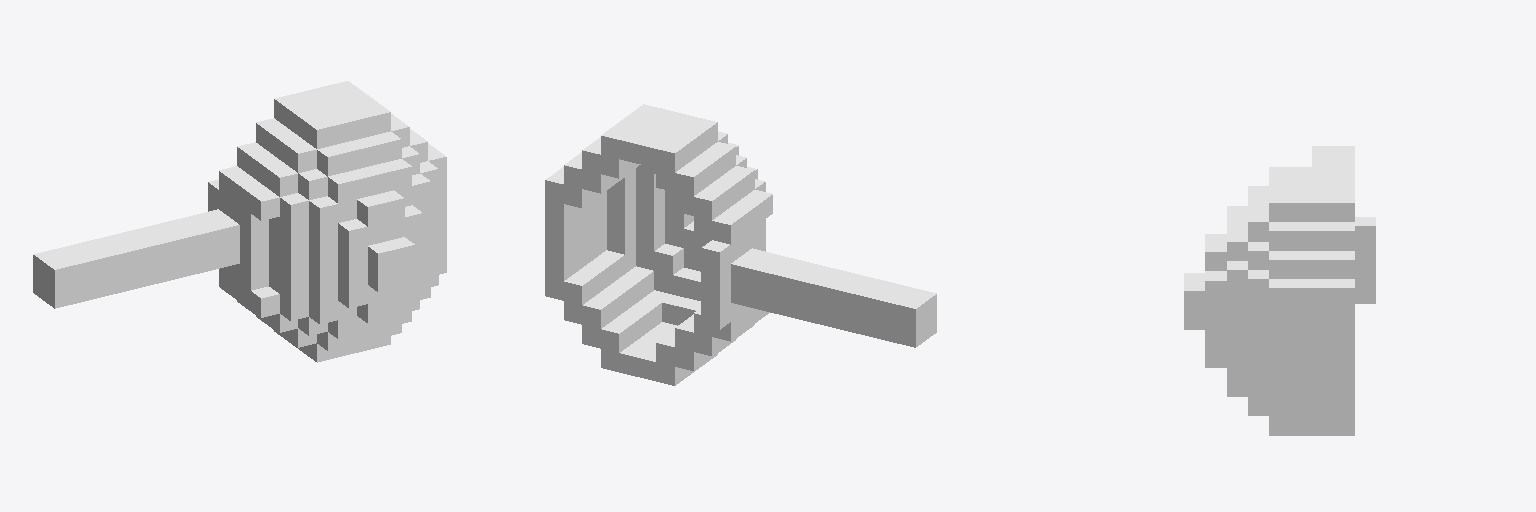
Rendered from Projectile_2.obj.
The picture shows the model from 3 angles: view 1: azimuth 30°, elevation 25°; view 2: azimuth 150°, elevation 25°; view 3: azimuth 270°, elevation 25°; orthographic projection.
Visible parts, largest first — view 1: object 1; view 2: object 1; view 3: object 1.
Boxes of the visible parts, <box> form: object 1: <box>33,81,446,362</box>; object 1: <box>545,104,936,385</box>; object 1: <box>1184,146,1375,435</box>.
Bounding box in the file's own units: 2 × 1.2 × 0.9.